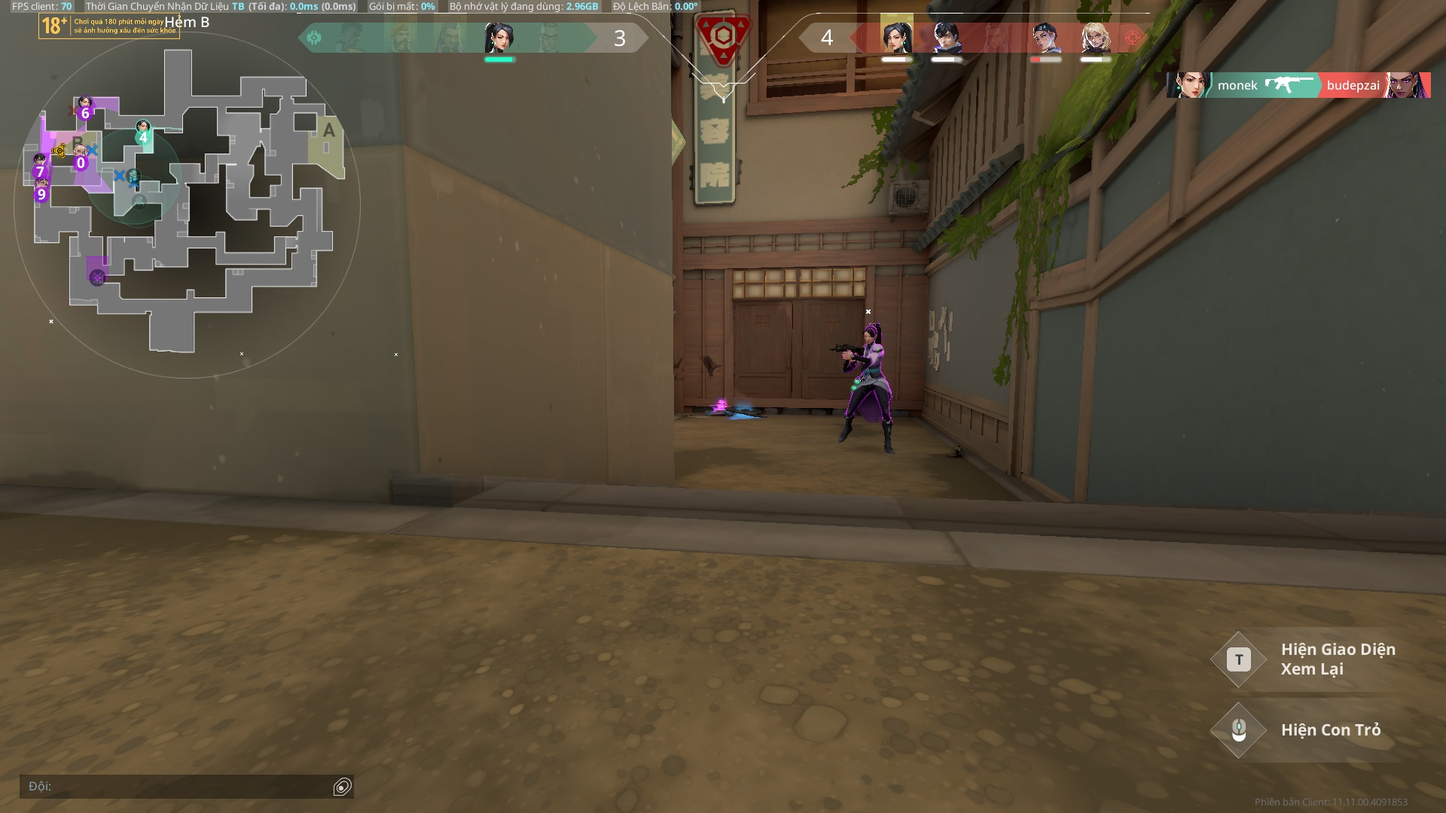body: (859, 343, 884, 375)
head: (862, 326, 877, 343)
